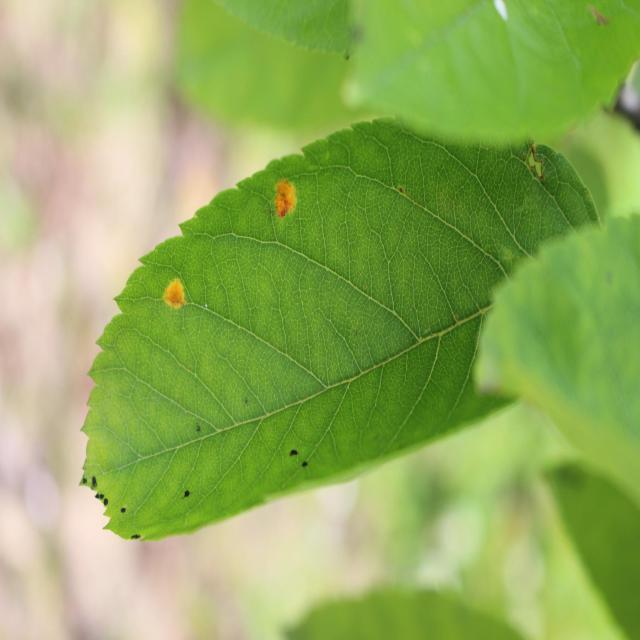Rust: (264, 163, 301, 230), (156, 256, 188, 322)
